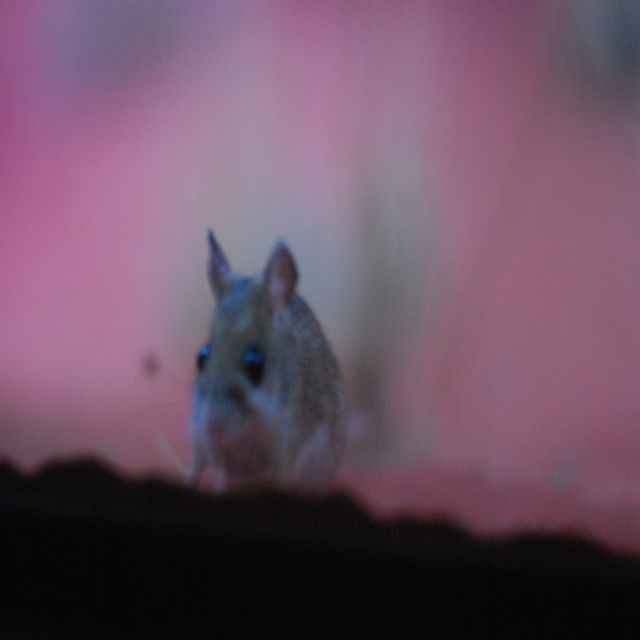Mouse: (153, 228, 350, 493)
